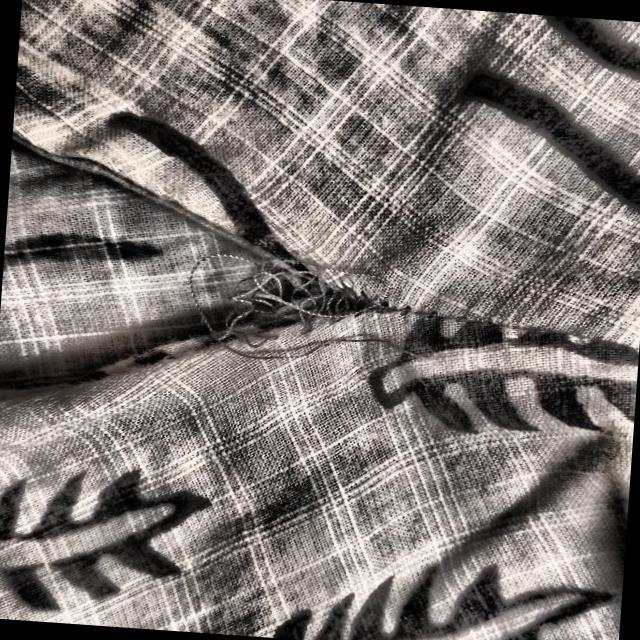gray stitch: (171, 236, 455, 376)
